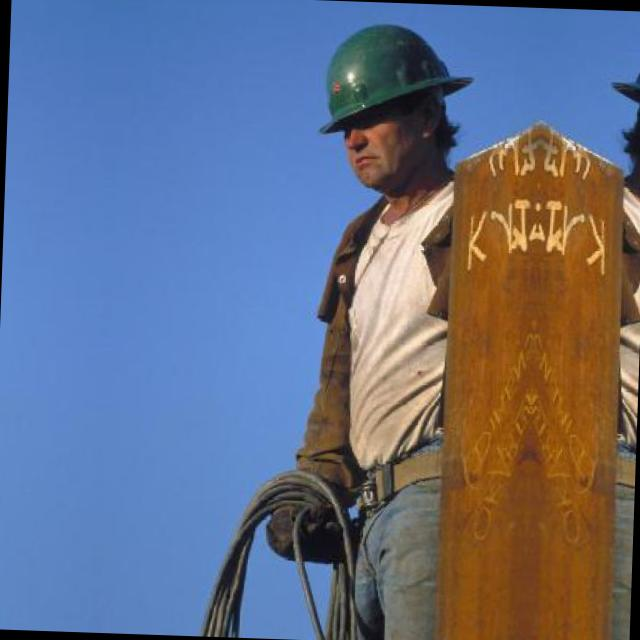helmet: (288, 6, 475, 208)
